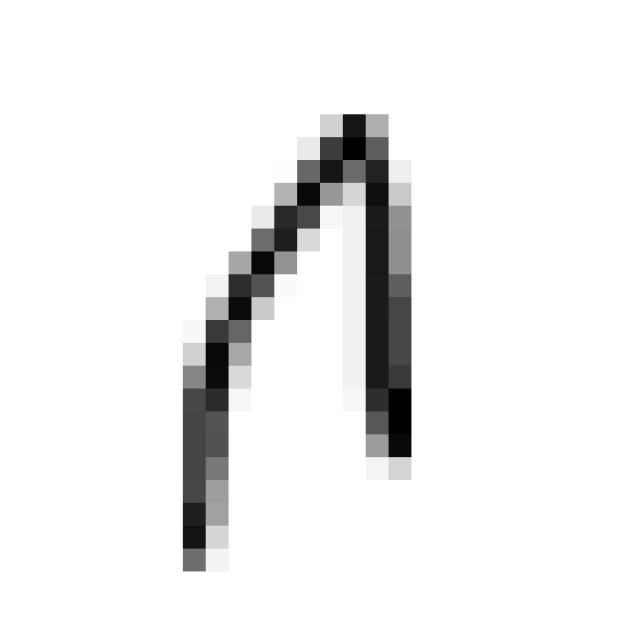8 -eight-: (160, 89, 434, 590)
